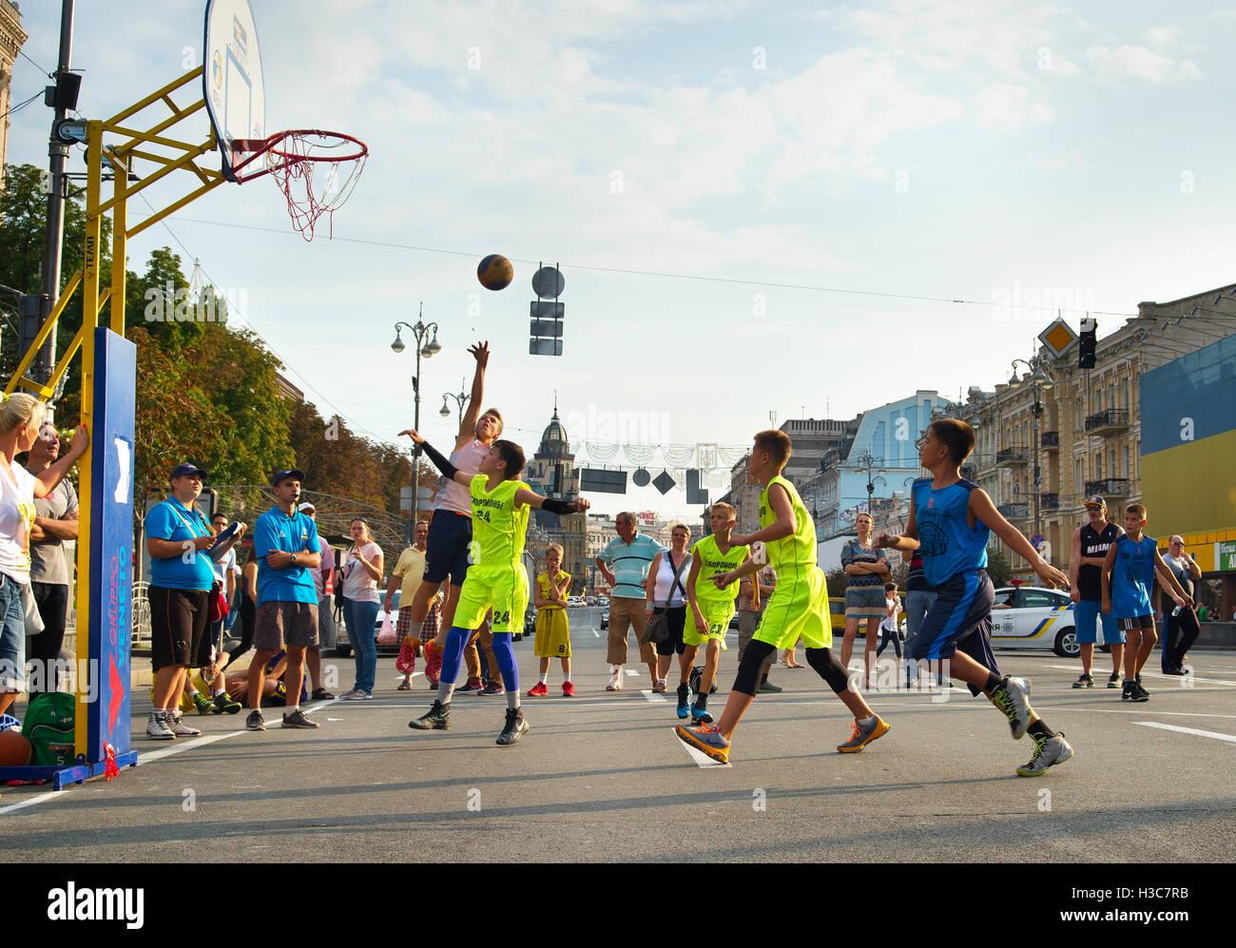basketball: (473, 247, 512, 288)
